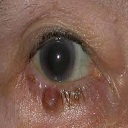Carcinoma: (40, 87, 82, 112)
